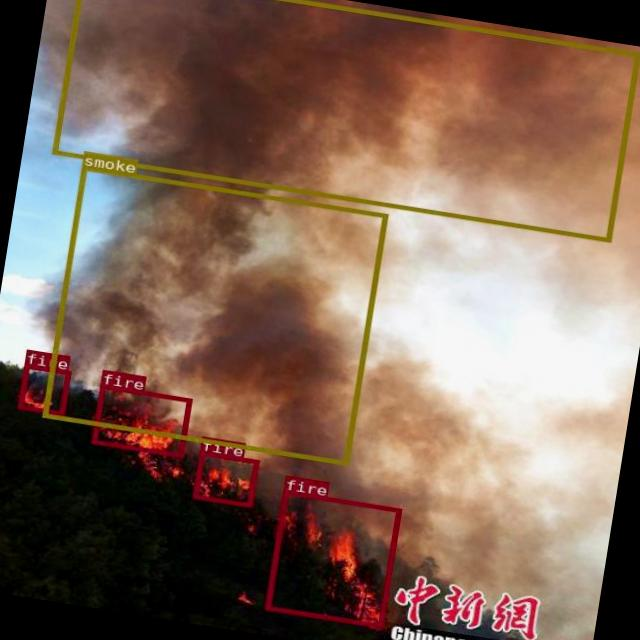fire: (264, 490, 401, 627), (90, 384, 192, 457), (191, 449, 258, 506), (18, 364, 70, 414)
smoke: (51, 0, 640, 241), (42, 166, 388, 464)
